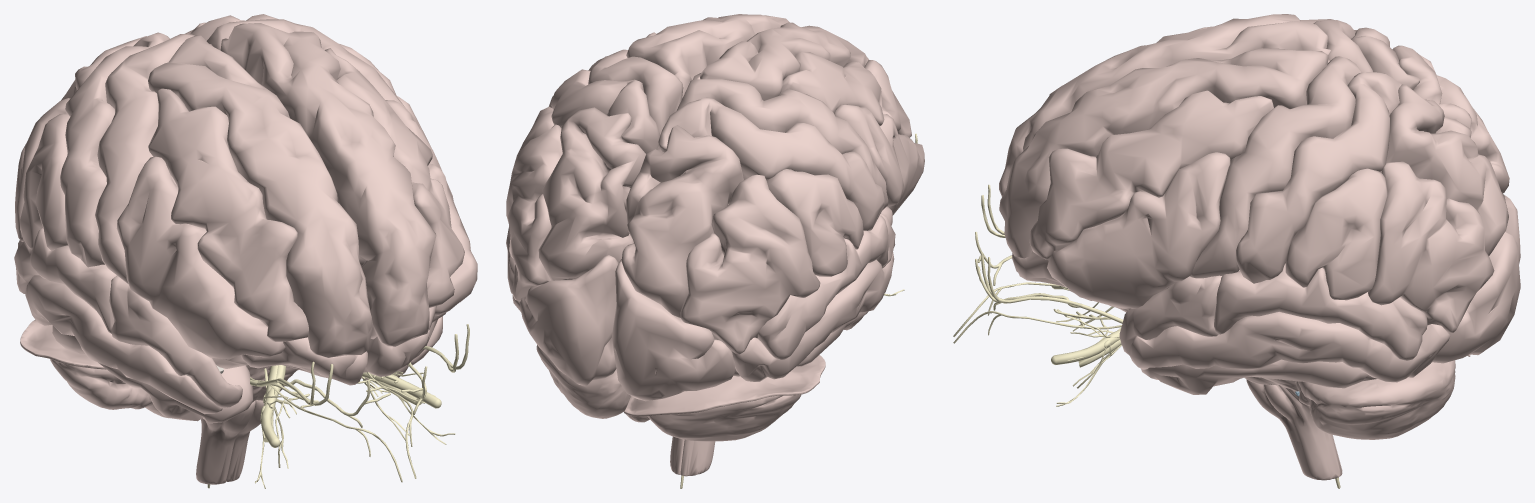
File: body-nerves.glb
The picture shows the model from 3 angles, left to right: view 1: azimuth 30°, elevation 25°; view 2: azimuth 150°, elevation 25°; view 3: azimuth 270°, elevation 25°; orthographic projection. The views are drawn at different scales.
Parts seen in each view (by area): view 1: FJ1833, FJ1834, FJ1788, FJ1745, FJ1801, FJ1798, FJ1790, FJ1787, FJ1838, FJ1842, FJ1840, FJ1794 (+17 smaller); view 2: FJ1733, FJ1836, FJ1835, FJ1792, FJ1798, FJ1791, FJ1834, FJ1732, FJ1842, FJ1801, FJ1833, FJ1788 (+11 smaller); view 3: FJ1833, FJ1787, FJ1744, FJ1732, FJ1789, FJ1797, FJ1800, FJ1834, FJ1841, FJ1835, FJ1839, FJ1781 (+10 smaller).
Part boxes in pixels (bbox=[...]): FJ1833: bbox=[220, 23, 436, 346]; FJ1834: bbox=[148, 35, 372, 357]; FJ1788: bbox=[148, 88, 308, 341]; FJ1745: bbox=[116, 156, 285, 359]; FJ1801: bbox=[95, 34, 194, 283]; FJ1798: bbox=[60, 32, 169, 267]; FJ1790: bbox=[25, 275, 222, 414]; FJ1787: bbox=[325, 48, 464, 307]; FJ1838: bbox=[109, 275, 242, 408]; FJ1842: bbox=[20, 114, 69, 250]; FJ1840: bbox=[14, 227, 116, 333]; FJ1794: bbox=[212, 337, 367, 385]; FJ1733: bbox=[680, 174, 820, 354]; FJ1836: bbox=[621, 125, 743, 317]; FJ1835: bbox=[538, 107, 645, 280]; FJ1792: bbox=[612, 259, 735, 401]; FJ1798: bbox=[658, 97, 885, 230]; FJ1791: bbox=[519, 255, 618, 385]; FJ1834: bbox=[693, 22, 868, 100]; FJ1732: bbox=[506, 124, 562, 301]; FJ1842: bbox=[767, 169, 863, 276]; FJ1801: bbox=[677, 79, 888, 210]; FJ1833: bbox=[626, 14, 789, 97]; FJ1788: bbox=[779, 52, 911, 137]; FJ1833: bbox=[999, 48, 1329, 258]; FJ1787: bbox=[1029, 90, 1273, 259]; FJ1744: bbox=[1047, 152, 1230, 308]; FJ1732: bbox=[1368, 161, 1494, 332]; FJ1789: bbox=[1128, 312, 1450, 382]; FJ1797: bbox=[1236, 72, 1401, 283]; FJ1800: bbox=[1190, 56, 1361, 278]; FJ1834: bbox=[999, 14, 1330, 196]; FJ1841: bbox=[1285, 168, 1387, 300]; FJ1835: bbox=[1380, 84, 1508, 255]; FJ1839: bbox=[1214, 263, 1427, 360]; FJ1781: bbox=[1296, 360, 1455, 439].
Bounding box in the file's own units: 0.1411 × 0.172 × 0.1958.
